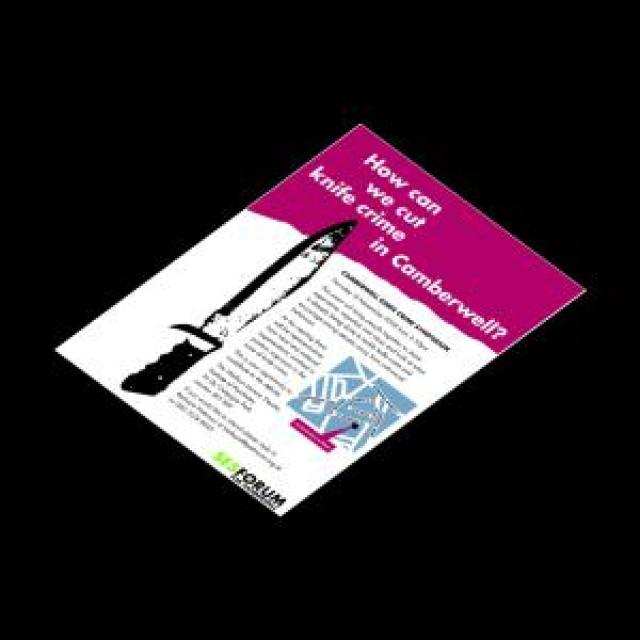knife: (122, 220, 360, 399)
